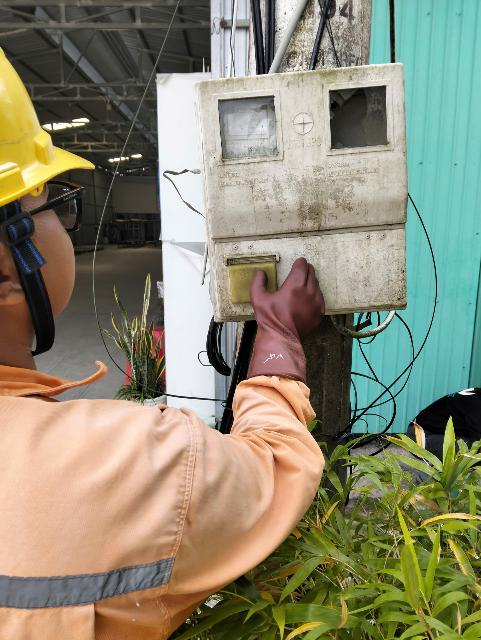gloves: (251, 258, 329, 393)
helmet: (0, 34, 103, 212)
